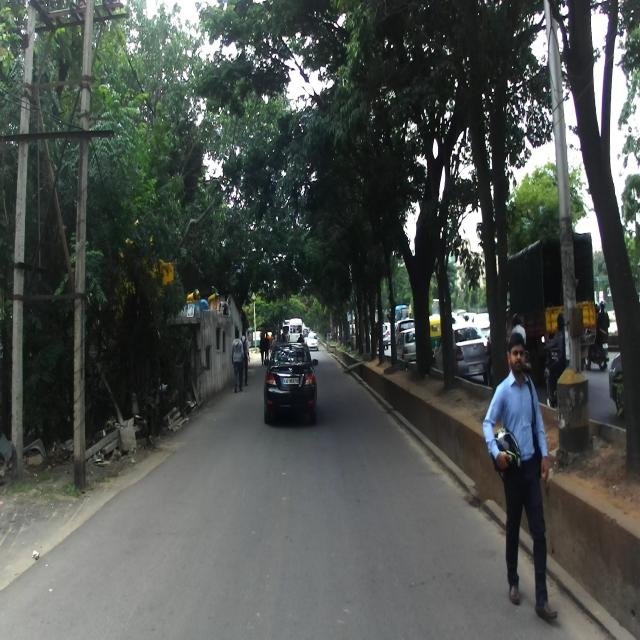car: (262, 340, 320, 428), (433, 321, 491, 386)
